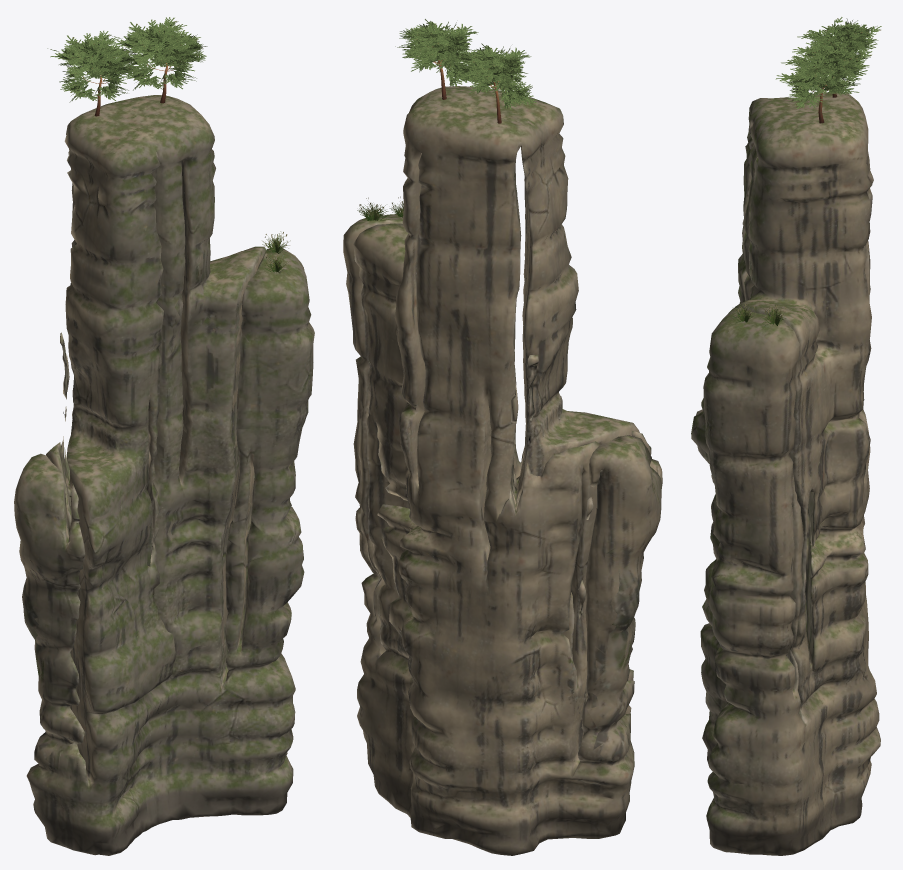
The model's file is skala_masiv_3veze.glb.
3 views of the same model, side by side, from view 1: azimuth 30°, elevation 25°; view 2: azimuth 150°, elevation 25°; view 3: azimuth 270°, elevation 25° (orthographic). The views are drawn at different scales.
Parts seen in each view (by area): view 1: skala_masiv_3veze, borovice_mlada, borovice_mlada.001; view 2: skala_masiv_3veze, borovice_mlada, borovice_mlada.001; view 3: skala_masiv_3veze, borovice_mlada, borovice_mlada.001.
Part boxes in pixels (<box>): skala_masiv_3veze: <box>14,95,314,855</box>; borovice_mlada: <box>112,17,207,103</box>; borovice_mlada.001: <box>47,30,138,116</box>; skala_masiv_3veze: <box>343,86,662,855</box>; borovice_mlada: <box>395,19,478,99</box>; borovice_mlada.001: <box>455,43,536,123</box>; skala_masiv_3veze: <box>691,92,880,855</box>; borovice_mlada: <box>775,42,872,123</box>; borovice_mlada.001: <box>792,17,881,97</box>.
Bounding box in the file's own units: 12.4 × 31.3 × 7.33.
Materials: 10 (10 with a texture image).
